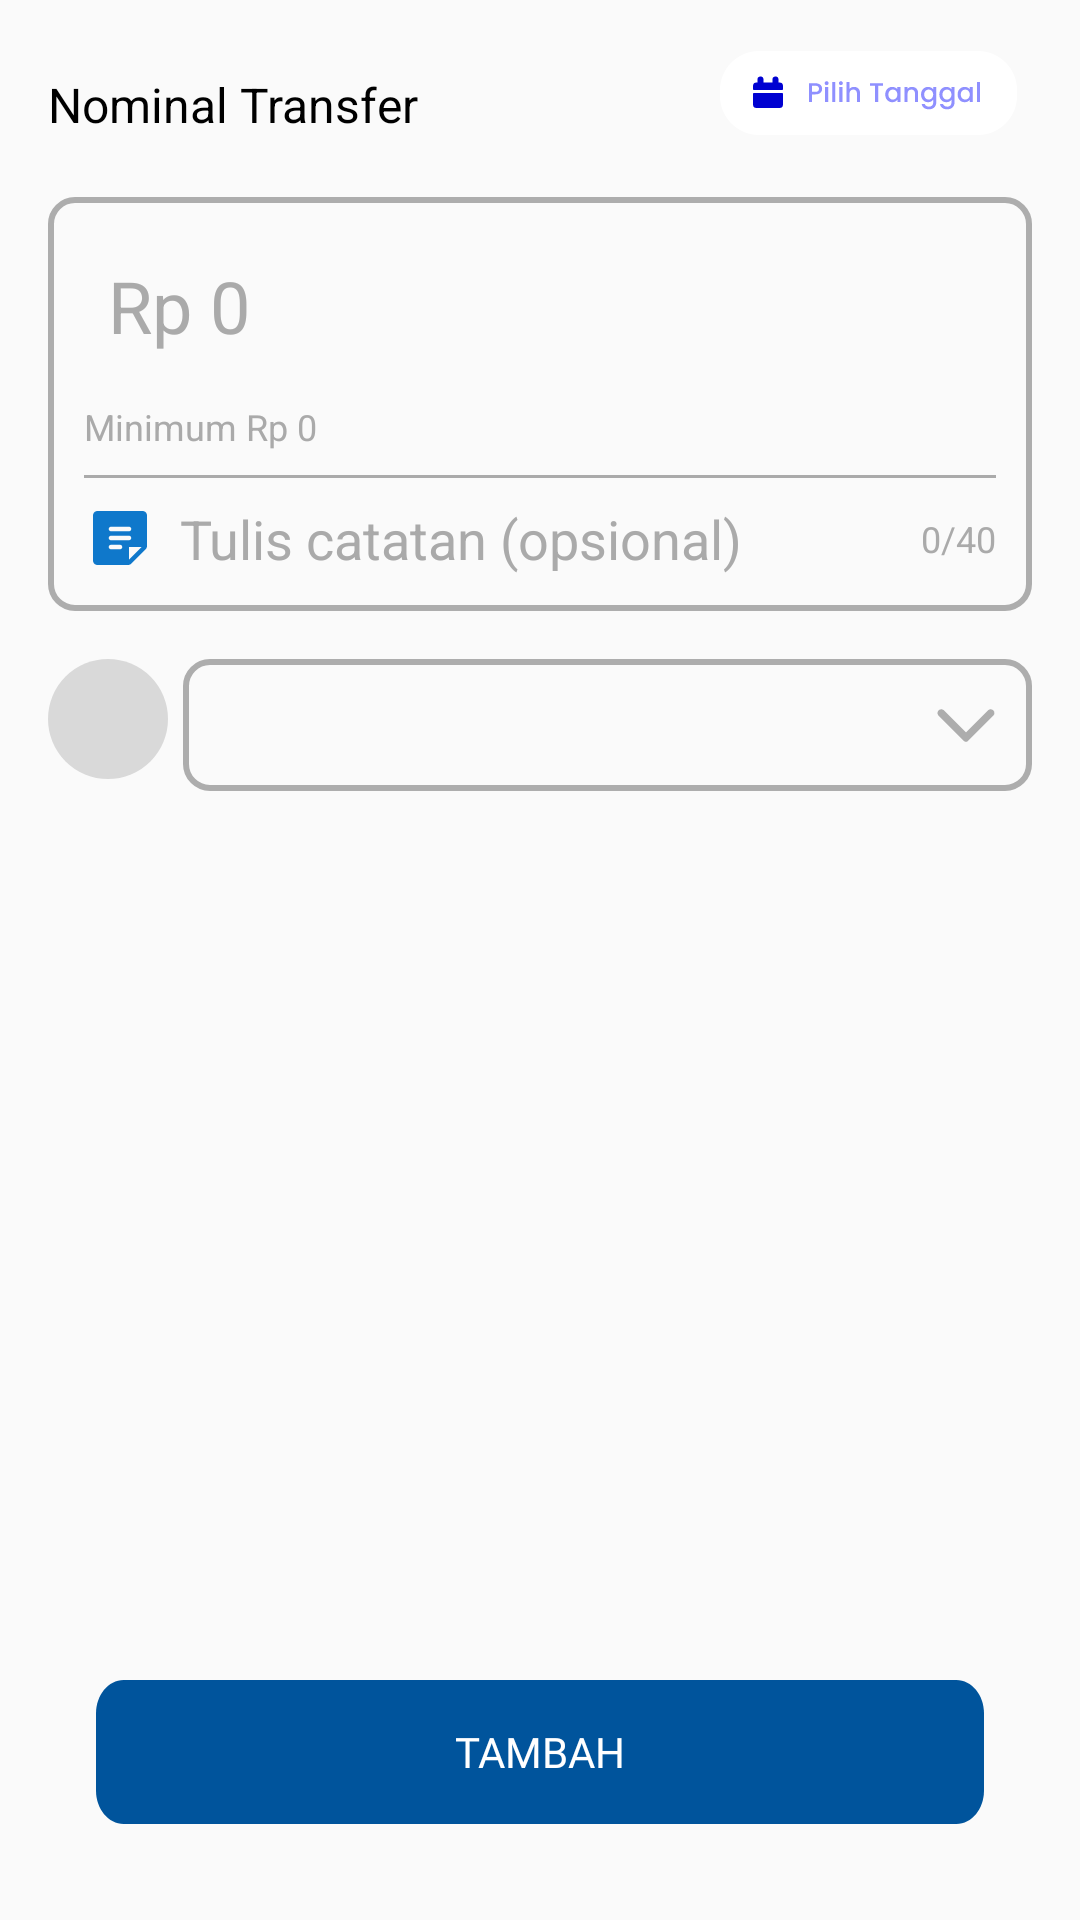

Icons on this 1080x1920 Android screen, each with the point to tap as point (x, y):
arrow drop down: point (966, 725)
